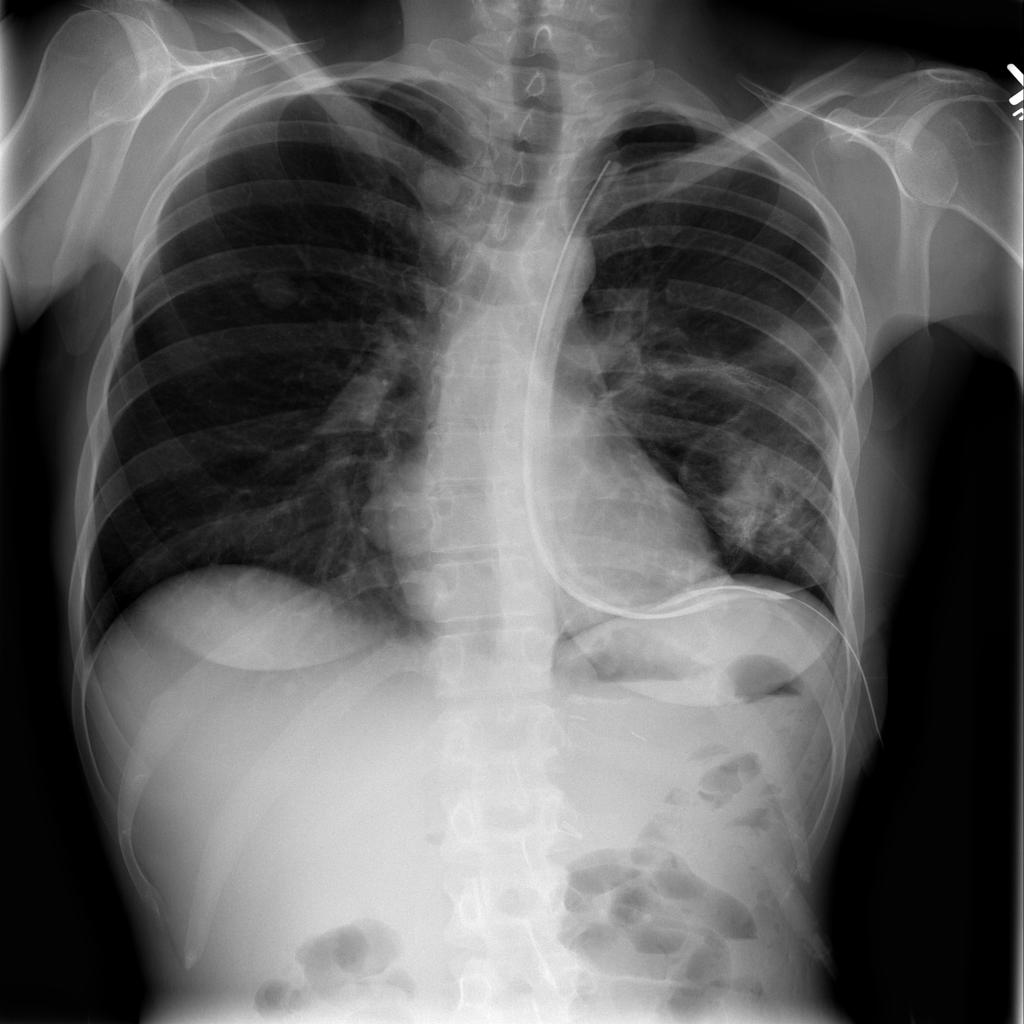nodule: (234, 249, 316, 320), (402, 152, 480, 221)
